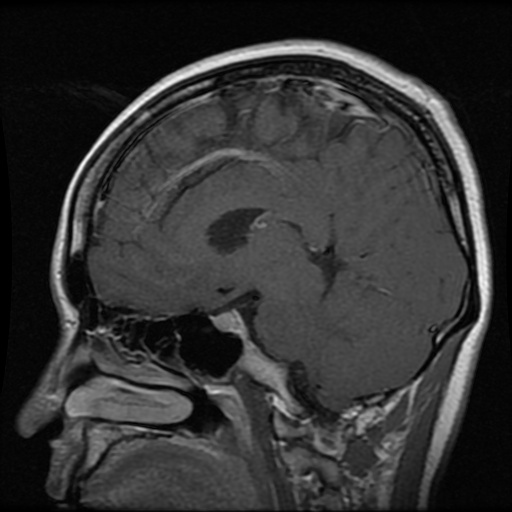pituitary: (211, 311, 248, 336)
